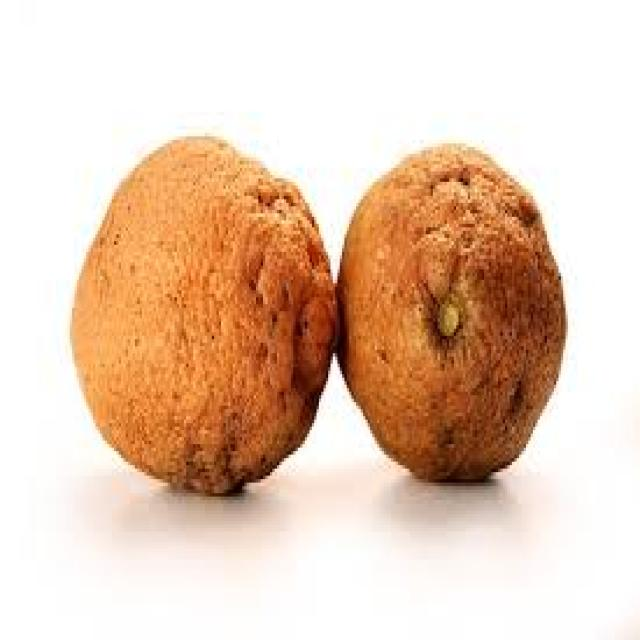overripe: (62, 127, 340, 504), (346, 130, 570, 488)
